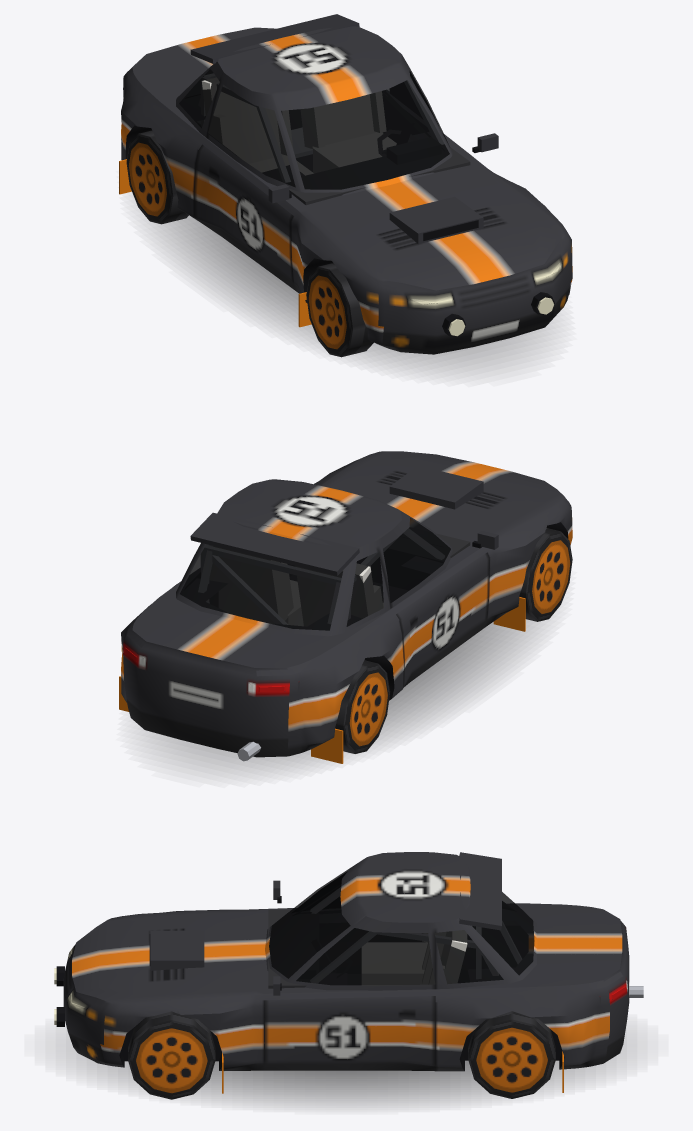
File: basalto.glb
The picture shows the model from 3 angles, top to bottom: view 1: azimuth 30°, elevation 25°; view 2: azimuth 150°, elevation 25°; view 3: azimuth 270°, elevation 25°; orthographic projection. The views are drawn at different scales.
Parts seen in each view (by area): view 1: Carroceria, Capo_malha, Interior, Porta_D_malha, Sombra, Roda_DD, Roda_TD, Tampa_malha, Porta_E_malha; view 2: Carroceria, Interior, Capo_malha, Porta_D_malha, Sombra, Tampa_malha, Roda_TD, Roda_DD; view 3: Carroceria, Porta_E_malha, Capo_malha, Interior, Sombra, Roda_DE, Roda_TE, Tampa_malha, Porta_D_malha.
Part boxes in pixels (x1,y1,x2,y2): Carroceria: [119, 14, 572, 354]; Capo_malha: [313, 173, 560, 289]; Interior: [187, 74, 470, 205]; Porta_D_malha: [194, 71, 300, 281]; Sombra: [152, 215, 545, 371]; Roda_DD: [306, 263, 373, 357]; Roda_TD: [126, 130, 188, 224]; Tampa_malha: [127, 27, 275, 88]; Porta_E_malha: [390, 55, 498, 154]; Carroceria: [119, 451, 572, 763]; Interior: [185, 528, 470, 625]; Capo_malha: [328, 451, 560, 536]; Porta_D_malha: [375, 511, 498, 686]; Sombra: [146, 620, 540, 772]; Tampa_malha: [127, 608, 322, 676]; Roda_TD: [335, 660, 390, 753]; Roda_DD: [519, 528, 572, 621]; Carroceria: [54, 852, 643, 1093]; Porta_E_malha: [265, 916, 435, 1066]; Capo_malha: [77, 912, 248, 1000]; Interior: [268, 886, 527, 988]; Sombra: [66, 1032, 626, 1105]; Roda_DE: [128, 1011, 215, 1099]; Roda_TE: [468, 1011, 555, 1098]; Tampa_malha: [553, 905, 622, 989]; Porta_D_malha: [273, 872, 346, 912].
Size of the model in its own units: 2.38 by 1.28 by 4.69.
14 materials, 5 textured.
